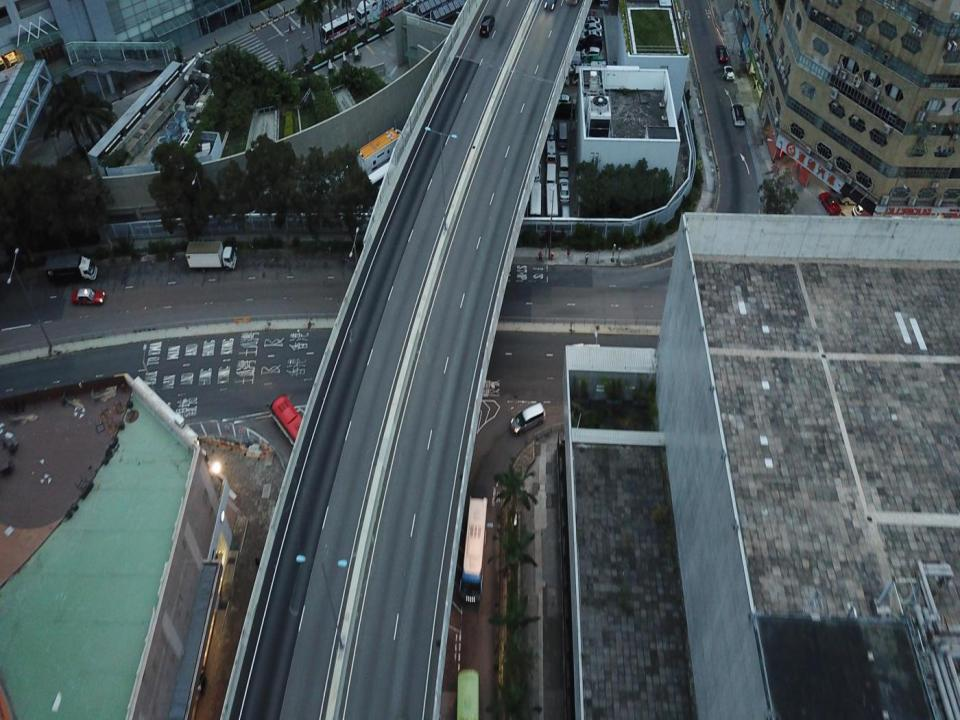bus: (458, 494, 488, 608), (267, 392, 310, 460), (317, 10, 358, 45), (454, 666, 481, 719)
car: (72, 287, 107, 307), (718, 40, 730, 63), (720, 66, 739, 79)
truck: (41, 254, 99, 285), (185, 241, 238, 273), (354, 1, 407, 26)
van: (510, 402, 547, 438), (478, 11, 494, 37), (730, 99, 743, 130)
